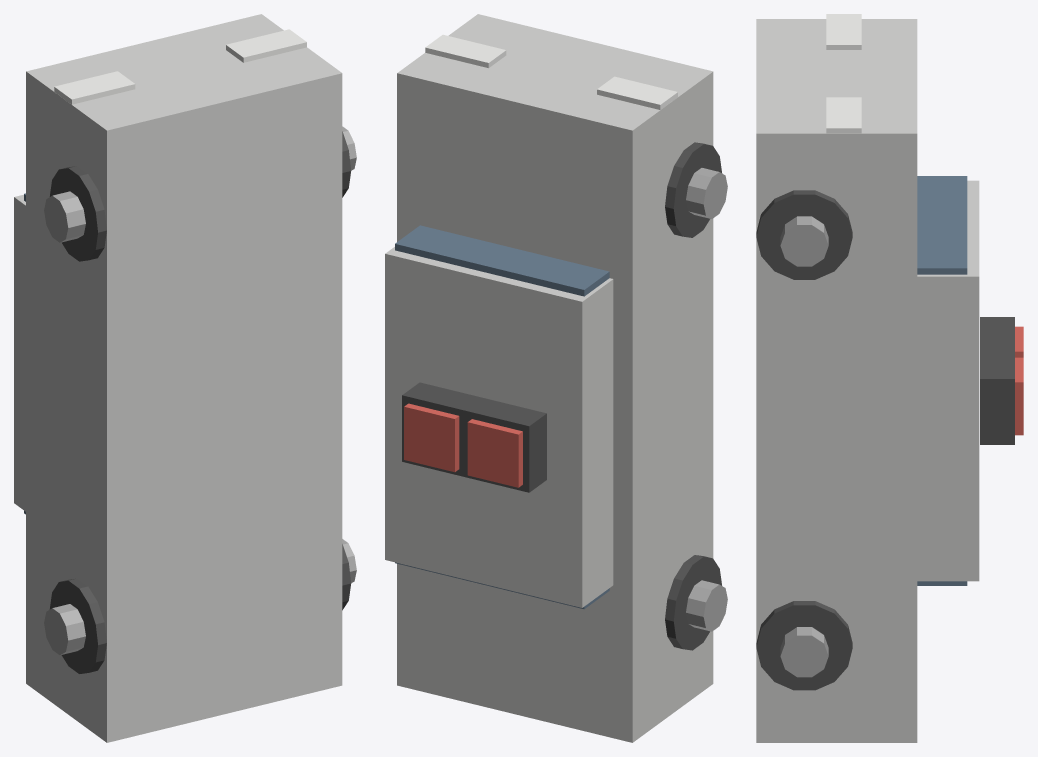
The model's file is patrol_cruiser.glb.
The picture shows the model from 3 angles, left to right: view 1: azimuth 30°, elevation 25°; view 2: azimuth 150°, elevation 25°; view 3: azimuth 270°, elevation 25°; orthographic projection.
Visible parts, largest first — view 1: body, cabin, wheel_-1_-1, wheel_-1_1, hub_-1_-1, hub_-1_1, headlamp_l, headlamp_r; view 2: body, cabin, glass_f, lightbar, light_b, light_r, wheel_-1_-1, wheel_-1_1, hub_-1_1, hub_-1_-1, headlamp_r, headlamp_l; view 3: body, cabin, glass_f, wheel_1_1, wheel_1_-1, lightbar, hub_1_-1, hub_1_1, headlamp_r, headlamp_l, light_b.
Boxes of the visible parts, x1,y1,x2,y2 form: body: (26, 14, 342, 742); cabin: (14, 194, 25, 511); wheel_-1_-1: (49, 578, 106, 673); wheel_-1_1: (49, 166, 106, 261); hub_-1_-1: (44, 604, 85, 655); hub_-1_1: (44, 191, 85, 242); headlamp_l: (54, 71, 135, 104); headlamp_r: (226, 29, 306, 62); body: (397, 14, 713, 742); cabin: (385, 247, 613, 607); glass_f: (395, 225, 609, 296); lightbar: (402, 382, 546, 492); light_b: (404, 403, 459, 472); light_r: (467, 419, 522, 487); wheel_-1_-1: (665, 555, 721, 650); wheel_-1_1: (665, 142, 722, 237); hub_-1_1: (686, 168, 727, 218); hub_-1_-1: (686, 580, 727, 631); headlamp_r: (425, 34, 506, 68); headlamp_l: (597, 76, 677, 109); body: (756, 19, 917, 742); cabin: (917, 180, 979, 581); glass_f: (917, 176, 967, 274); wheel_1_1: (756, 190, 852, 279); wheel_1_-1: (756, 601, 852, 690); lightbar: (980, 317, 1014, 444); hub_1_-1: (780, 627, 828, 677); hub_1_1: (780, 216, 828, 266); headlamp_r: (826, 97, 861, 133); headlamp_l: (826, 14, 861, 49); light_b: (1015, 357, 1023, 435).
Size of the model in its own units: 2.27 by 4.68 by 1.83.
